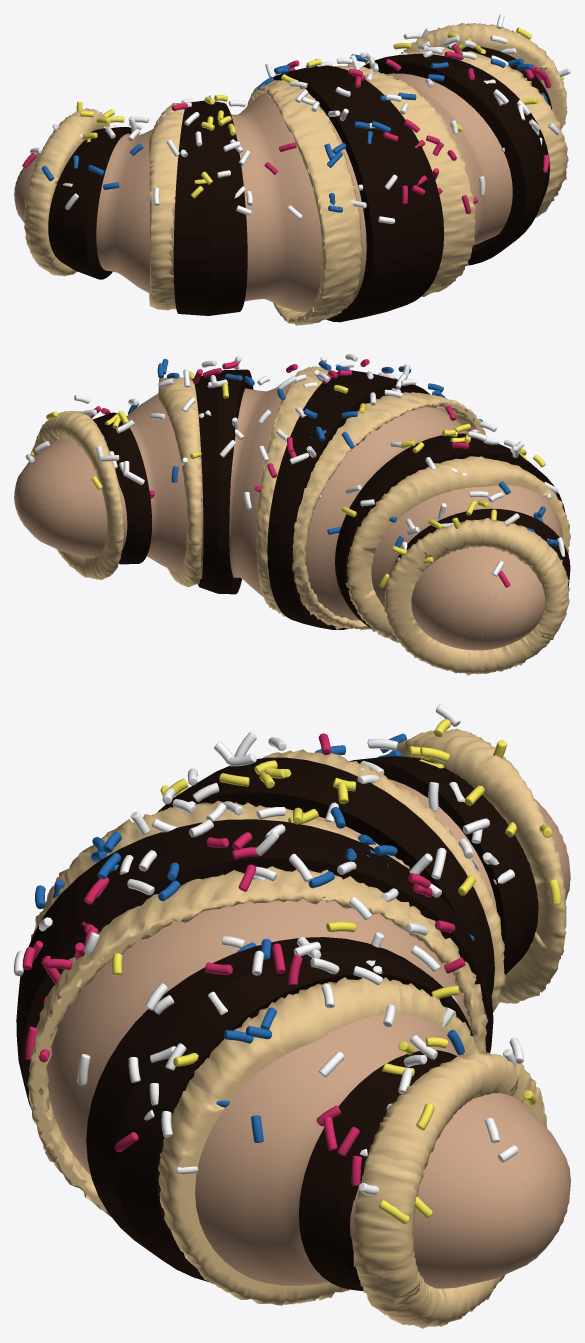
Rendered from chocolate_cream_croissant_wd_icing4layers.fbx.
The picture shows the model from 3 angles, top to bottom: view 1: azimuth 30°, elevation 25°; view 2: azimuth 150°, elevation 25°; view 3: azimuth 270°, elevation 25°; orthographic projection. The views are drawn at different scales.
Visible parts, largest first — view 1: chocolate_layer, cream_layer, crossiant, icing; view 2: crossiant, cream_layer, chocolate_layer, icing; view 3: chocolate_layer, cream_layer, crossiant, icing.
Part boxes in pixels (left/top/right/bottom): chocolate_layer: left=48, top=46, right=551, bottom=322; cream_layer: left=23, top=22, right=568, bottom=325; crossiant: left=14, top=73, right=545, bottom=312; icing: left=22, top=14, right=570, bottom=223; crossiant: left=14, top=386, right=562, bottom=650; cream_layer: left=32, top=366, right=570, bottom=675; chocolate_layer: left=92, top=369, right=570, bottom=629; icing: left=25, top=354, right=565, bottom=587; chocolate_layer: left=16, top=756, right=538, bottom=1291; cream_layer: left=27, top=728, right=566, bottom=1328; crossiant: left=46, top=779, right=570, bottom=1288; icing: left=14, top=704, right=560, bottom=1224.
Bounding box in the file's own units: 1328 × 573 × 720.
